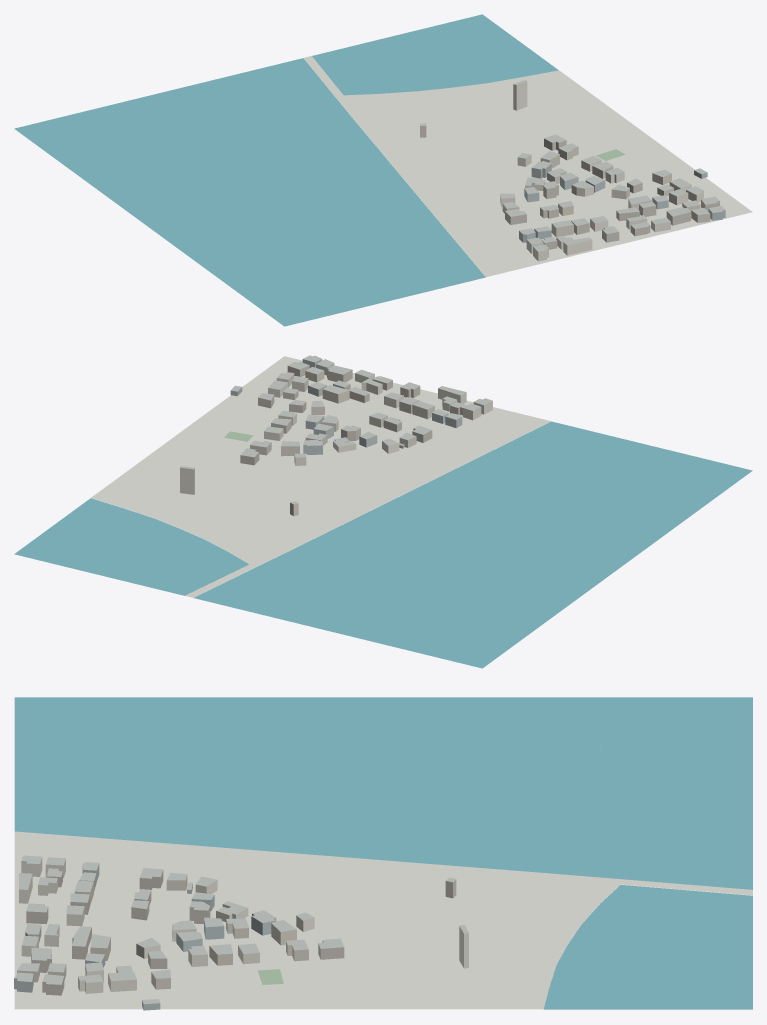
3 views of the same model, one above another, from view 1: azimuth 30°, elevation 25°; view 2: azimuth 150°, elevation 25°; view 3: azimuth 270°, elevation 25° (orthographic). The views are drawn at different scales.
Parts seen in each view (by area): view 1: city; view 2: city; view 3: city.
Part boxes in pixels (x1,y1,x2,y2): city: (14, 14, 752, 326); city: (14, 355, 752, 668); city: (14, 697, 752, 1010).
Size of the model in its own units: 502 by 26.18 by 500.
